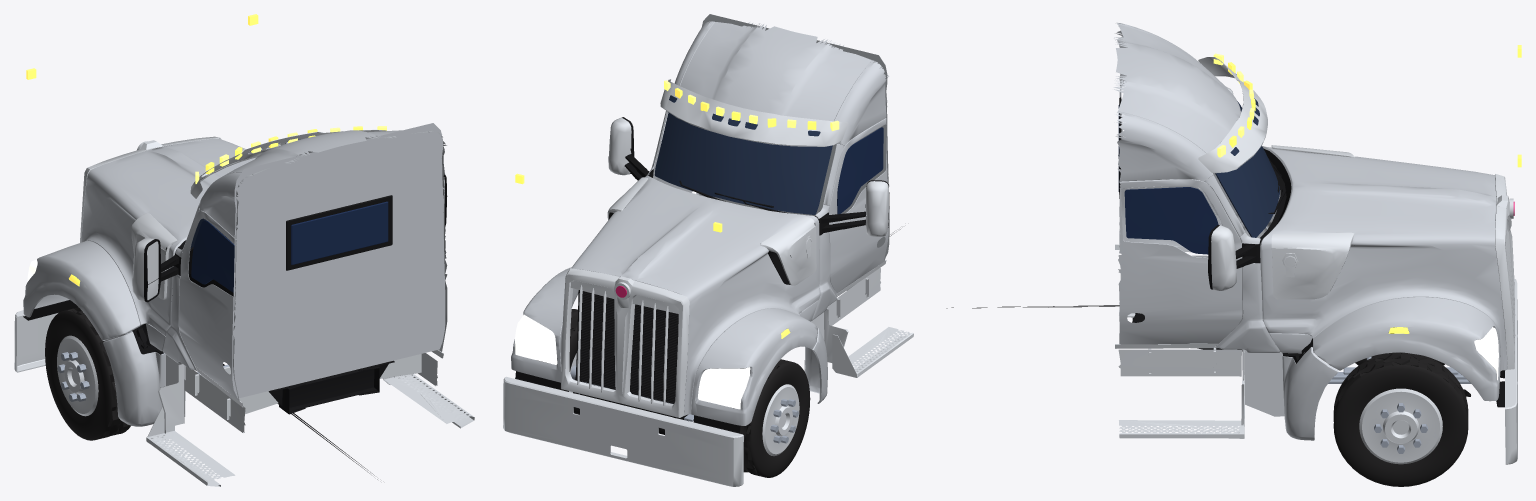
The model's file is cab_americana.glb.
3 views of the same model, side by side, from view 1: azimuth 30°, elevation 25°; view 2: azimuth 150°, elevation 25°; view 3: azimuth 270°, elevation 25° (orthographic). The views are drawn at different scales.
Visible parts, largest first — view 1: truck_paint_white_panel, truck_chrome, wheel_f_L, truck_plastic_black, truck_glass, truck_lamp_amber; view 2: truck_paint_white_panel, truck_chrome, truck_glass_wind, truck_plastic_black, wheel_f_L, truck_lamp_white, truck_glass, truck_lamp_amber, wheel_f_R, truck_lamp_yellow; view 3: truck_paint_white_panel, truck_chrome, wheel_f_R, truck_glass, truck_glass_wind, truck_plastic_black, truck_lamp_white.
Boxes of the visible parts, box(x1,y1,x2,y2) form: truck_paint_white_panel: box(23, 123, 447, 426); truck_chrome: box(14, 129, 474, 486); wheel_f_L: box(45, 307, 130, 440); truck_plastic_black: box(23, 174, 447, 479); truck_glass: box(191, 201, 388, 292); truck_lamp_amber: box(26, 14, 362, 286); truck_paint_white_panel: box(511, 14, 889, 425); truck_chrome: box(503, 79, 913, 486); truck_glass_wind: box(654, 95, 832, 214); truck_plastic_black: box(515, 117, 900, 434); wheel_f_L: box(733, 359, 810, 477); truck_lamp_white: box(515, 314, 750, 409); truck_glass: box(837, 127, 883, 214); truck_lamp_amber: box(515, 88, 816, 338); wheel_f_R: box(537, 309, 579, 414); truck_lamp_yellow: box(664, 80, 839, 131); truck_paint_white_panel: box(1113, 22, 1507, 440); truck_chrome: box(1115, 57, 1517, 464); wheel_f_R: box(1333, 352, 1468, 486); truck_glass: box(1118, 105, 1218, 254); truck_glass_wind: box(1215, 74, 1279, 237); truck_plastic_black: box(946, 97, 1505, 407); truck_lamp_white: box(1474, 327, 1498, 380).
Size of the model in its own units: 2.84 by 3.18 by 4.55.
11 materials, 3 textured.
